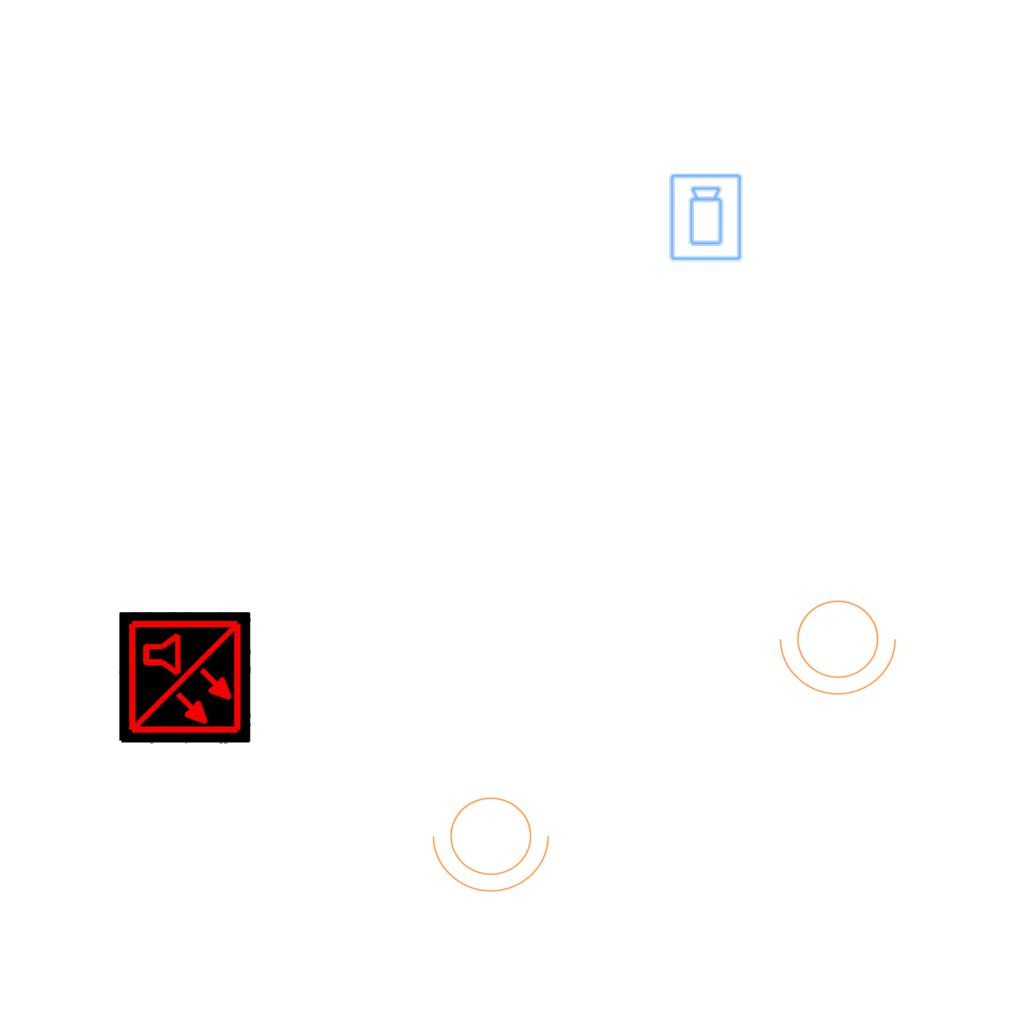KFO_Kamera_mit_Festobjektiv: (668, 172, 745, 263)
OKW_Multisensormelder_(Kombination_optischer_Rauch-Kahlenmonoxid_Waerme-Melder): (119, 612, 251, 744)
Scheinwerfer_fuer_Alarmbeleuchtung: (775, 588, 907, 700), (428, 785, 560, 897)
